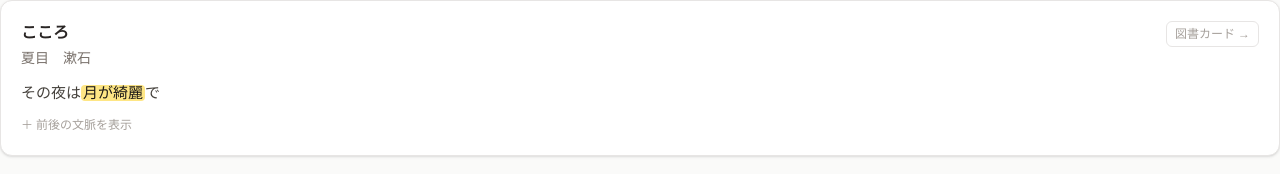
Test: ResultCard › UI-28: 展開ボタンが aria-expanded とラベルを状態に合わせる
Click the button. click: (77, 125)
box: [21,117,132,133]
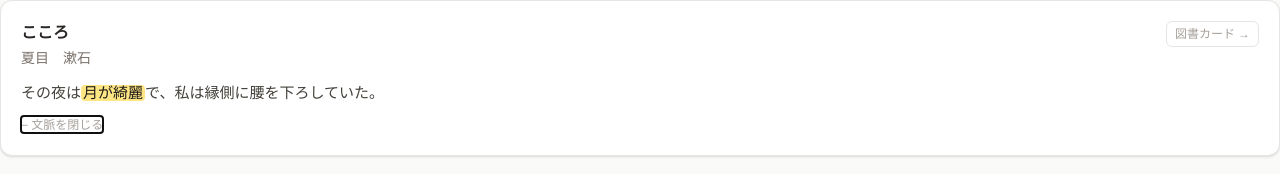
Result: the button is expanded at [21,117,103,133]
Result: the button reads "− 文脈を閉じる" at [21,117,103,133]
